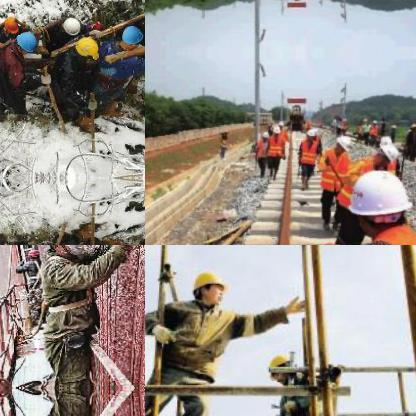Helmet: (343, 167, 415, 234), (189, 262, 227, 308), (264, 346, 300, 384), (70, 32, 100, 64), (116, 21, 144, 50), (40, 245, 84, 260), (373, 140, 399, 162), (11, 30, 35, 52), (330, 132, 352, 154), (58, 14, 80, 34), (0, 13, 18, 32), (25, 246, 40, 266), (302, 126, 316, 140), (270, 124, 280, 138)
